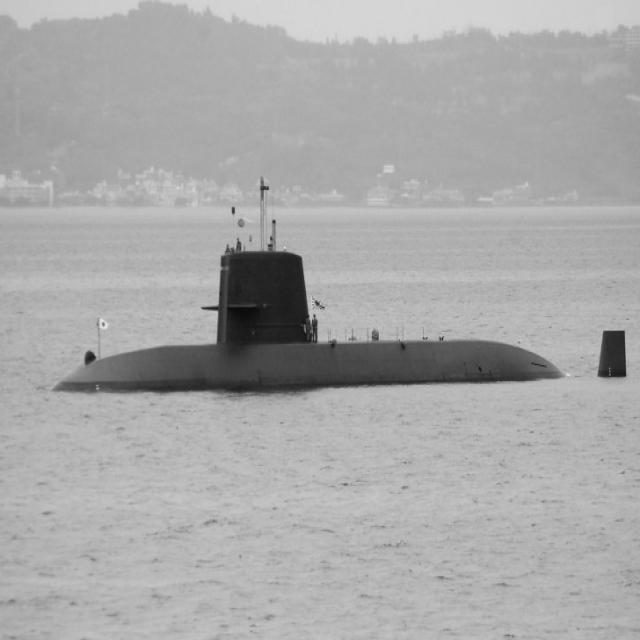submarine: (56, 242, 632, 396)
